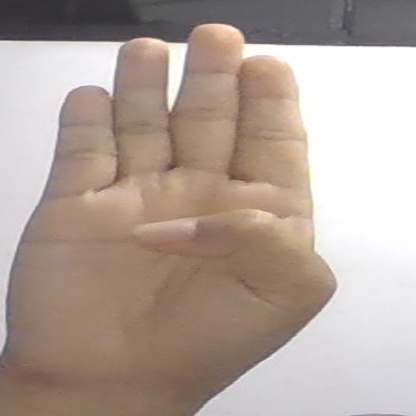B: (0, 23, 338, 389)
